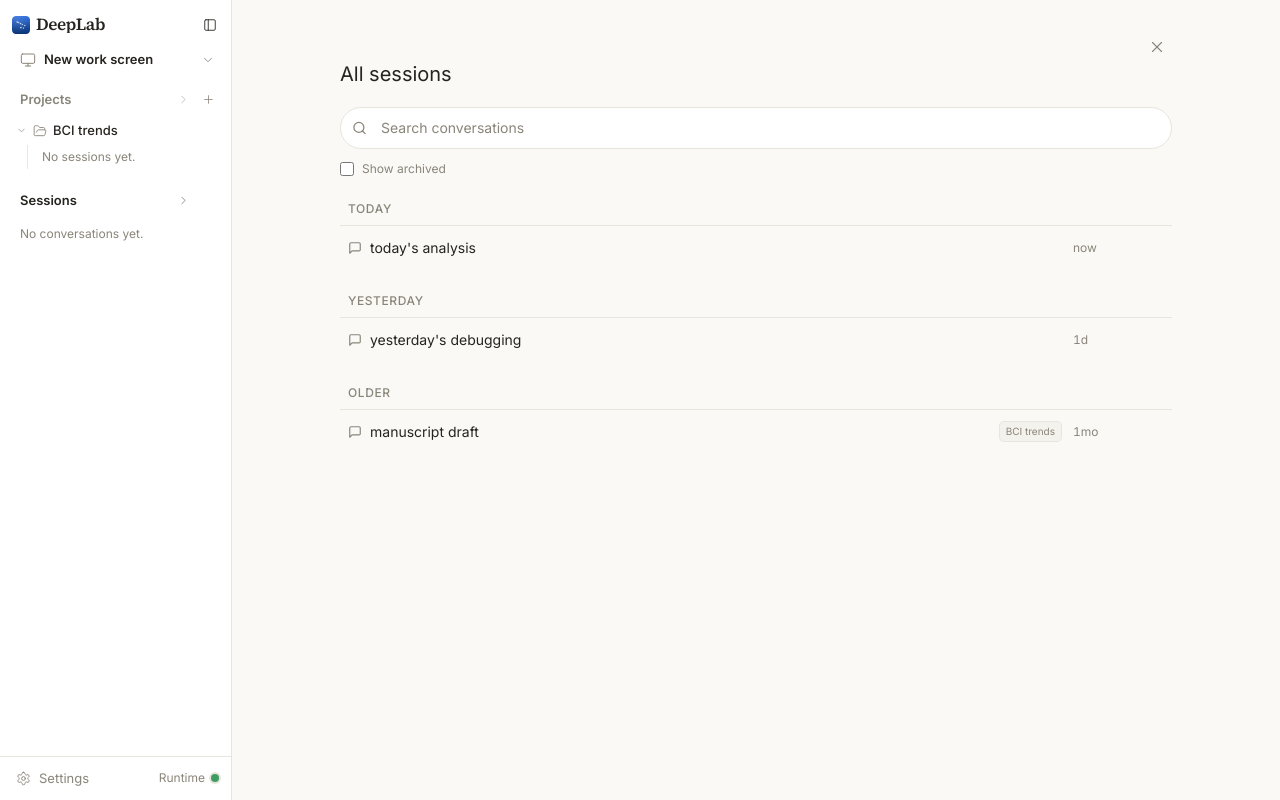
Test: HistoryPage › shows archived conversations only when asked, and marks them
The width and height of the screenshot is (1280, 800).
Expected: the field with placeholder "Search conversations" is shown, top-left (340, 107), bottom-right (1172, 149)
Expected: the button "today's analysis" is shown, top-left (370, 238), bottom-right (1061, 258)
Click the checkbox labelled "Show archived".
click(347, 169)  # box top-left (340, 162), bottom-right (354, 176)
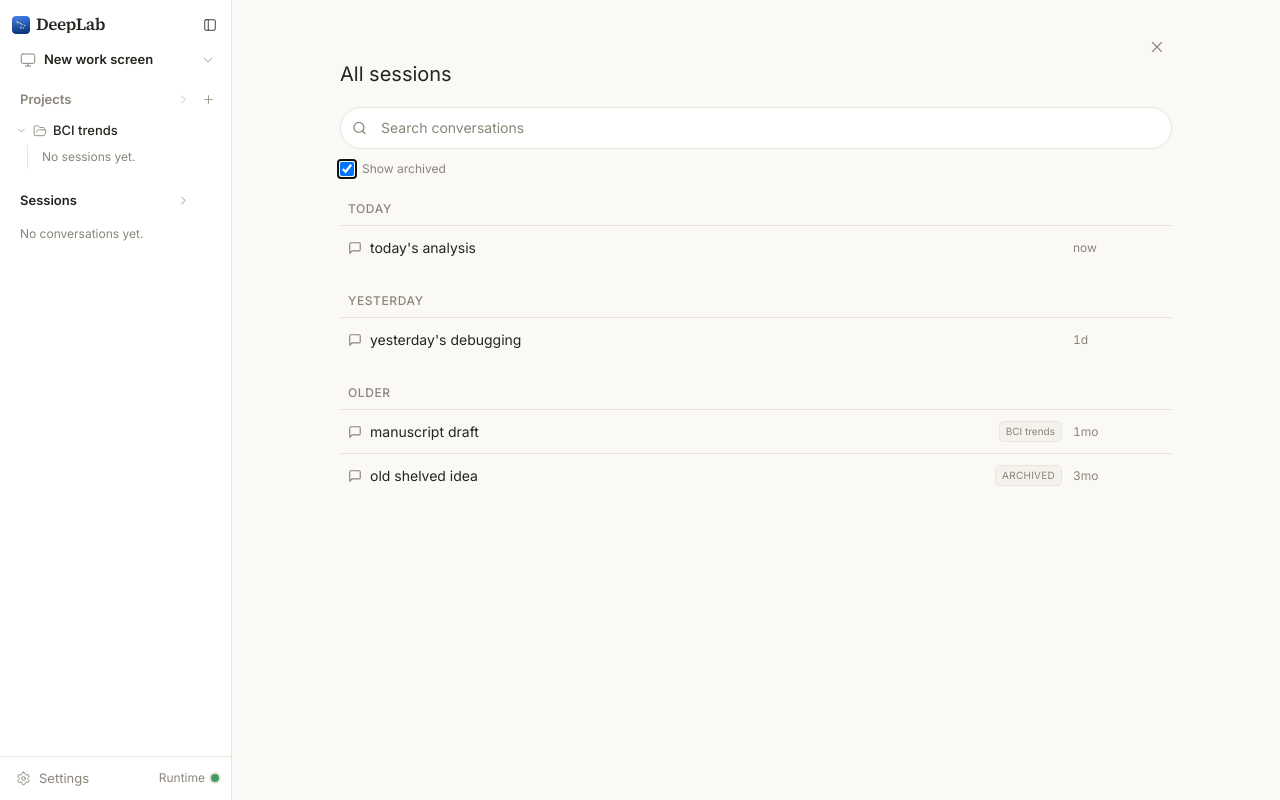
Expected: the button "old shelved idea" is shown, top-left (370, 466), bottom-right (988, 486)
Expected: the text "archived" is shown, top-left (996, 466), bottom-right (1061, 485)
